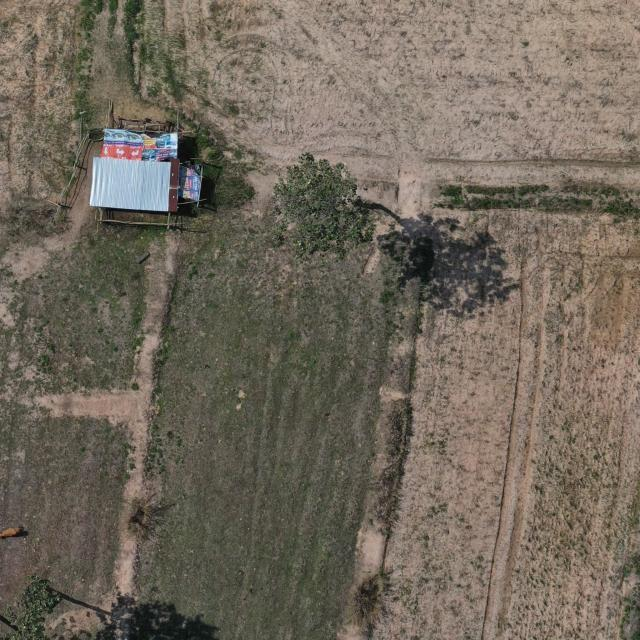Tree: (269, 151, 376, 260), (0, 571, 61, 640)
